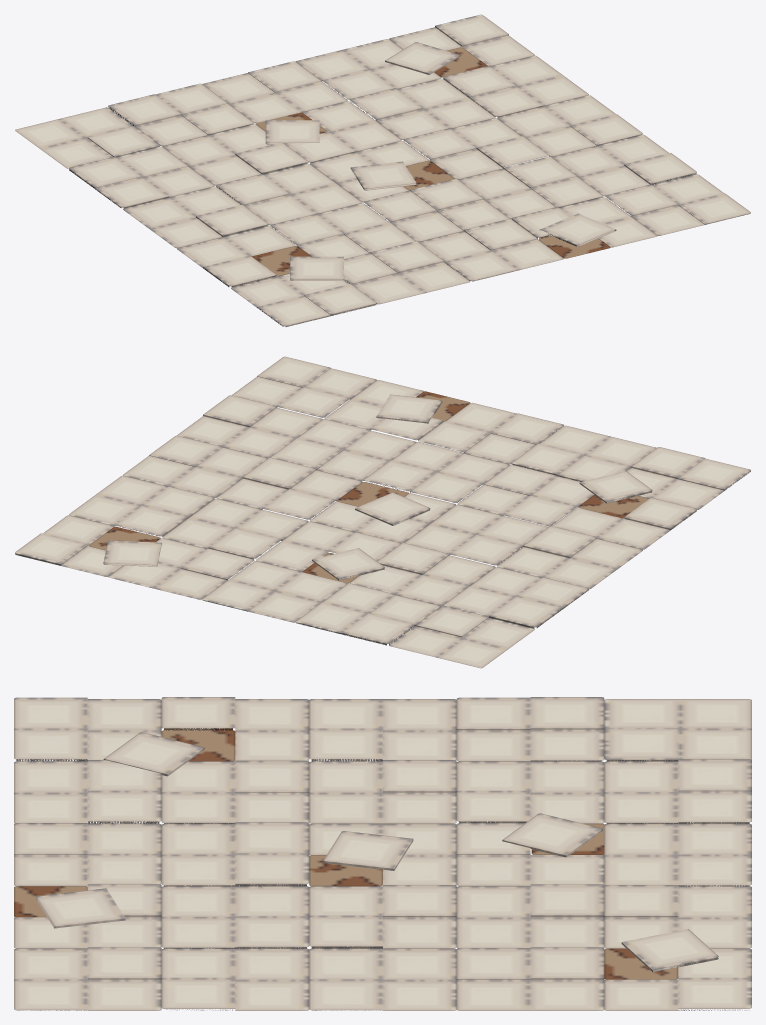
Rendered from Floor_TipoB.fbx.
3 views of the same model, one above another, from view 1: azimuth 30°, elevation 25°; view 2: azimuth 150°, elevation 25°; view 3: azimuth 270°, elevation 25° (orthographic). The views are drawn at different scales.
Visible parts, largest first — view 1: Plane.003, Plane.008, Plane.006, Plane.005, Plane.004, Plane.007; view 2: Plane.003, Plane.005, Plane.004, Plane.007, Plane.008, Plane.006; view 3: Plane.003, Plane.008, Plane.007, Plane.005, Plane.006, Plane.004.
Boxes of the visible parts, <box> form: Plane.003: <box>15,14,750,326</box>; Plane.008: <box>385,42,460,74</box>; Plane.006: <box>539,213,616,246</box>; Plane.005: <box>350,161,416,190</box>; Plane.004: <box>290,256,343,280</box>; Plane.007: <box>265,120,319,144</box>; Plane.003: <box>15,356,750,668</box>; Plane.005: <box>355,492,430,525</box>; Plane.004: <box>579,471,652,503</box>; Plane.007: <box>312,548,384,580</box>; Plane.008: <box>103,540,161,566</box>; Plane.006: <box>376,394,442,423</box>; Plane.003: <box>14,697,751,1010</box>; Plane.008: <box>621,929,718,972</box>; Plane.007: <box>502,813,602,857</box>; Plane.005: <box>323,831,413,870</box>; Plane.006: <box>36,888,125,928</box>; Plane.004: <box>103,732,204,776</box>.
Size of the model in its own units: 1000 by 5.5 by 1000.
